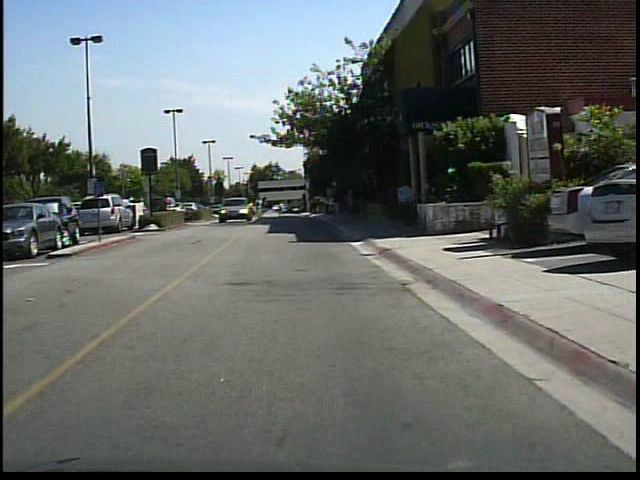person: (331, 182, 348, 219), (157, 191, 173, 225), (136, 196, 151, 227), (253, 194, 265, 221)
